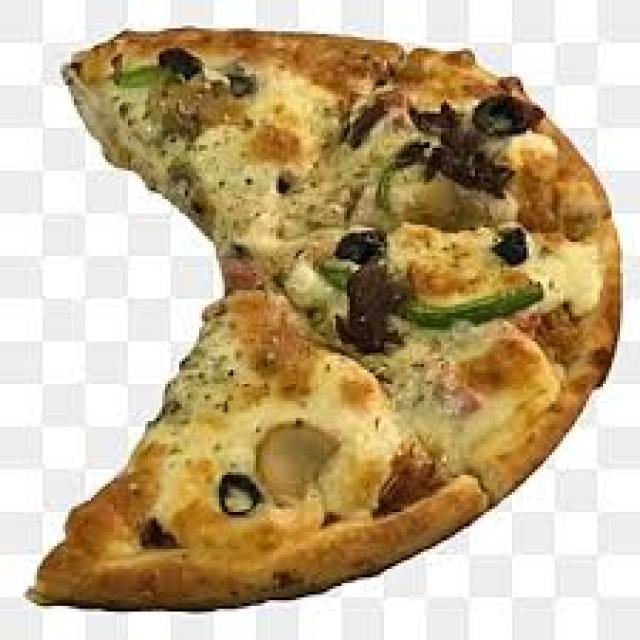pizza_half: (68, 24, 622, 614)
